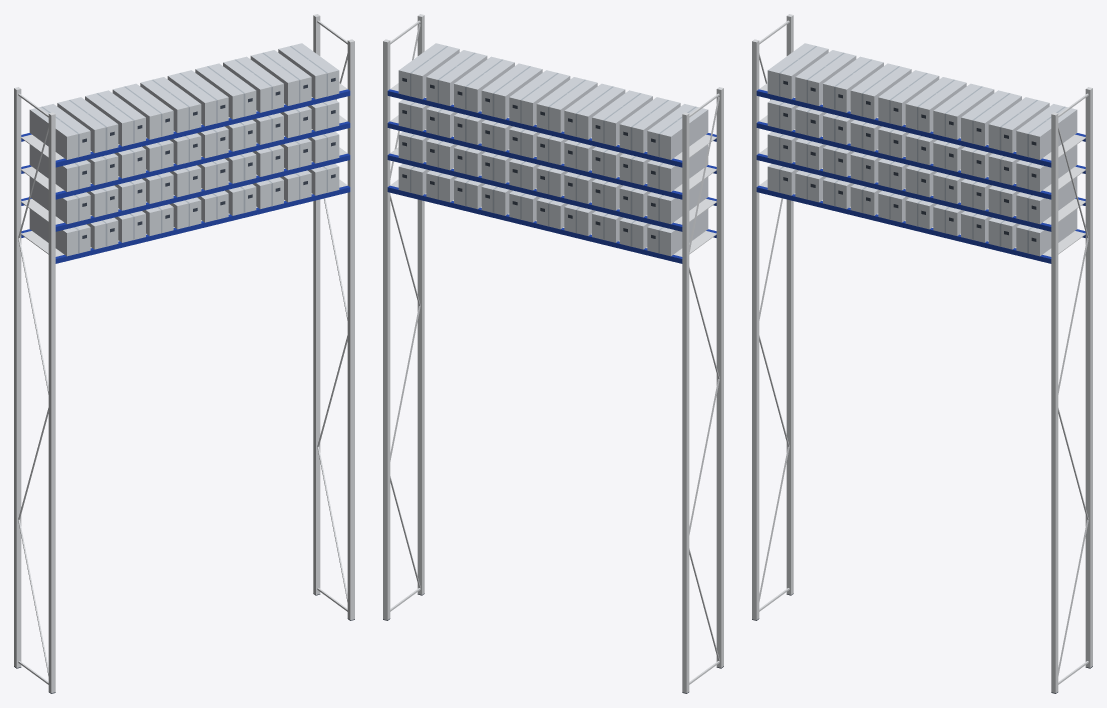
Rendered from SM_MPR_CADRack_F16_W192_Passage_LOD1.fbx.
3 renders of one model, left to right at view 1: azimuth 30°, elevation 25°; view 2: azimuth 150°, elevation 25°; view 3: azimuth 330°, elevation 25°, orthographic.
Parts seen in each view (by area): view 1: SM_MPR_CADRack_F16_W192_Passage_LOD1; view 2: SM_MPR_CADRack_F16_W192_Passage_LOD1; view 3: SM_MPR_CADRack_F16_W192_Passage_LOD1.
Part boxes in pixels (x1,y1,x2,y2): SM_MPR_CADRack_F16_W192_Passage_LOD1: [14, 14, 354, 693]; SM_MPR_CADRack_F16_W192_Passage_LOD1: [383, 14, 723, 693]; SM_MPR_CADRack_F16_W192_Passage_LOD1: [752, 14, 1092, 693].
Size of the model in its own units: 503 by 107 by 915.
